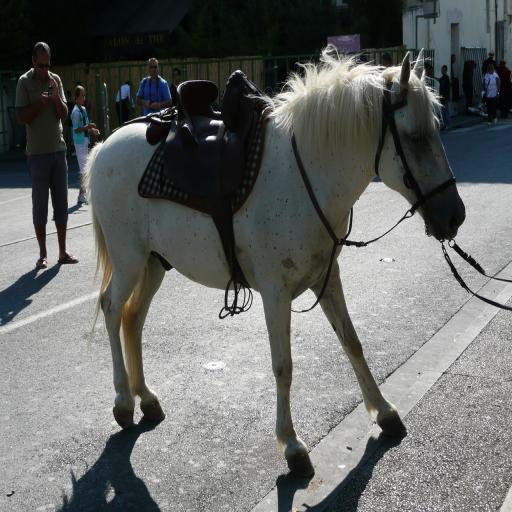horse: (80, 45, 467, 477)
